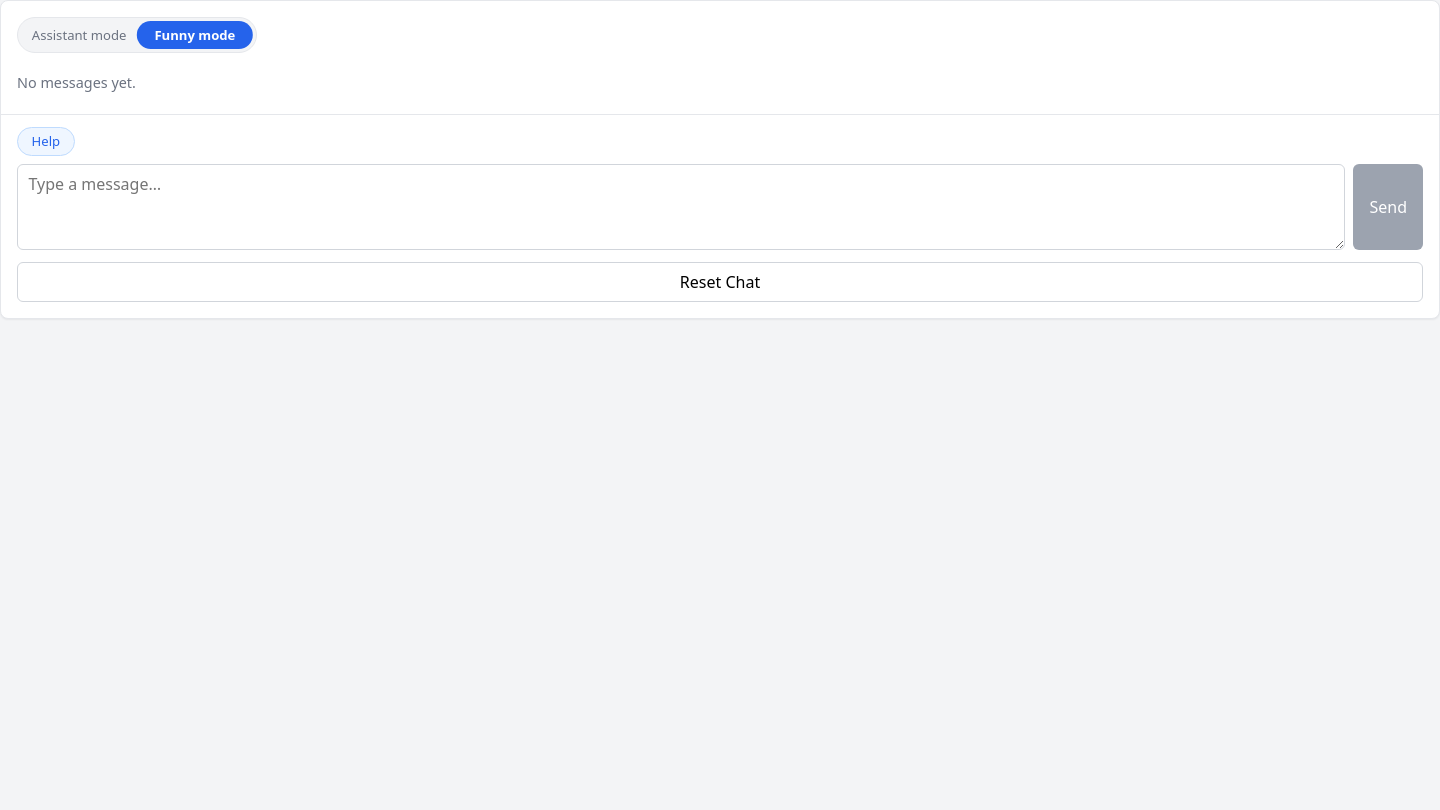
Test: ChatWindow Help suggestion › switches the toggle to Assistant mode and shows the question menu, even while Funny mode is on
The width and height of the screenshot is (1440, 810).
Expected: the checkbox with test id "funny-mode-toggle" is enabled, [17, 17, 257, 53]
Expected: the checkbox with test id "funny-mode-toggle" is checked, [17, 17, 257, 53]
Step 1. Click the button with test id "help-suggestion" → [46, 142], box [17, 126, 75, 156]
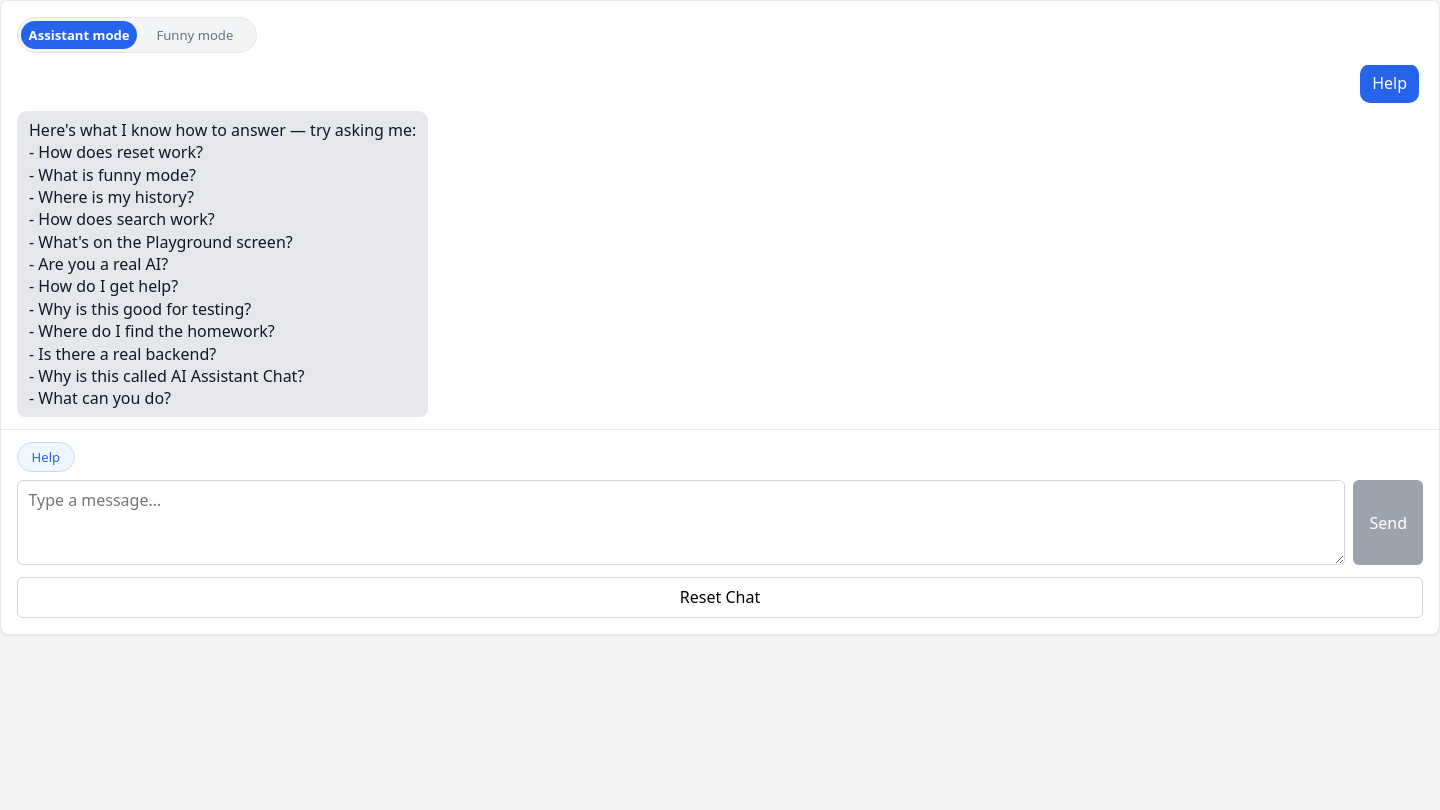
Now the checkbox with test id "funny-mode-toggle" is not checked, box [17, 17, 257, 53]
Now the element with test id "message-assistant" shows "Here's what I know how to answer", box [29, 119, 416, 409]
Now the element with test id "message-user" reads "Help", box [1372, 72, 1407, 94]
